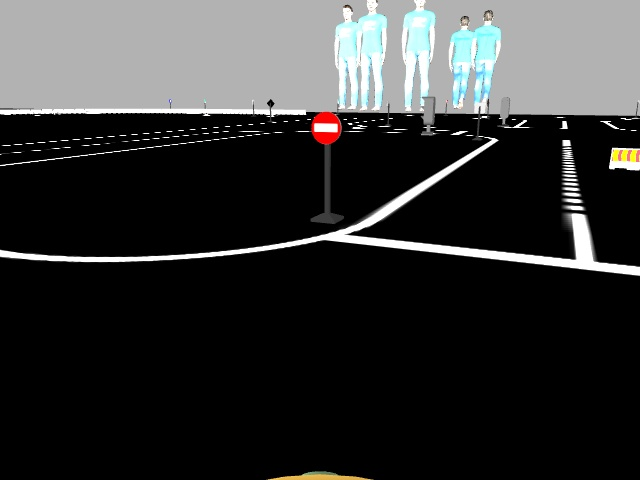ClosedRoadStand: (610, 147, 639, 168)
NoEntry: (310, 112, 340, 143)
